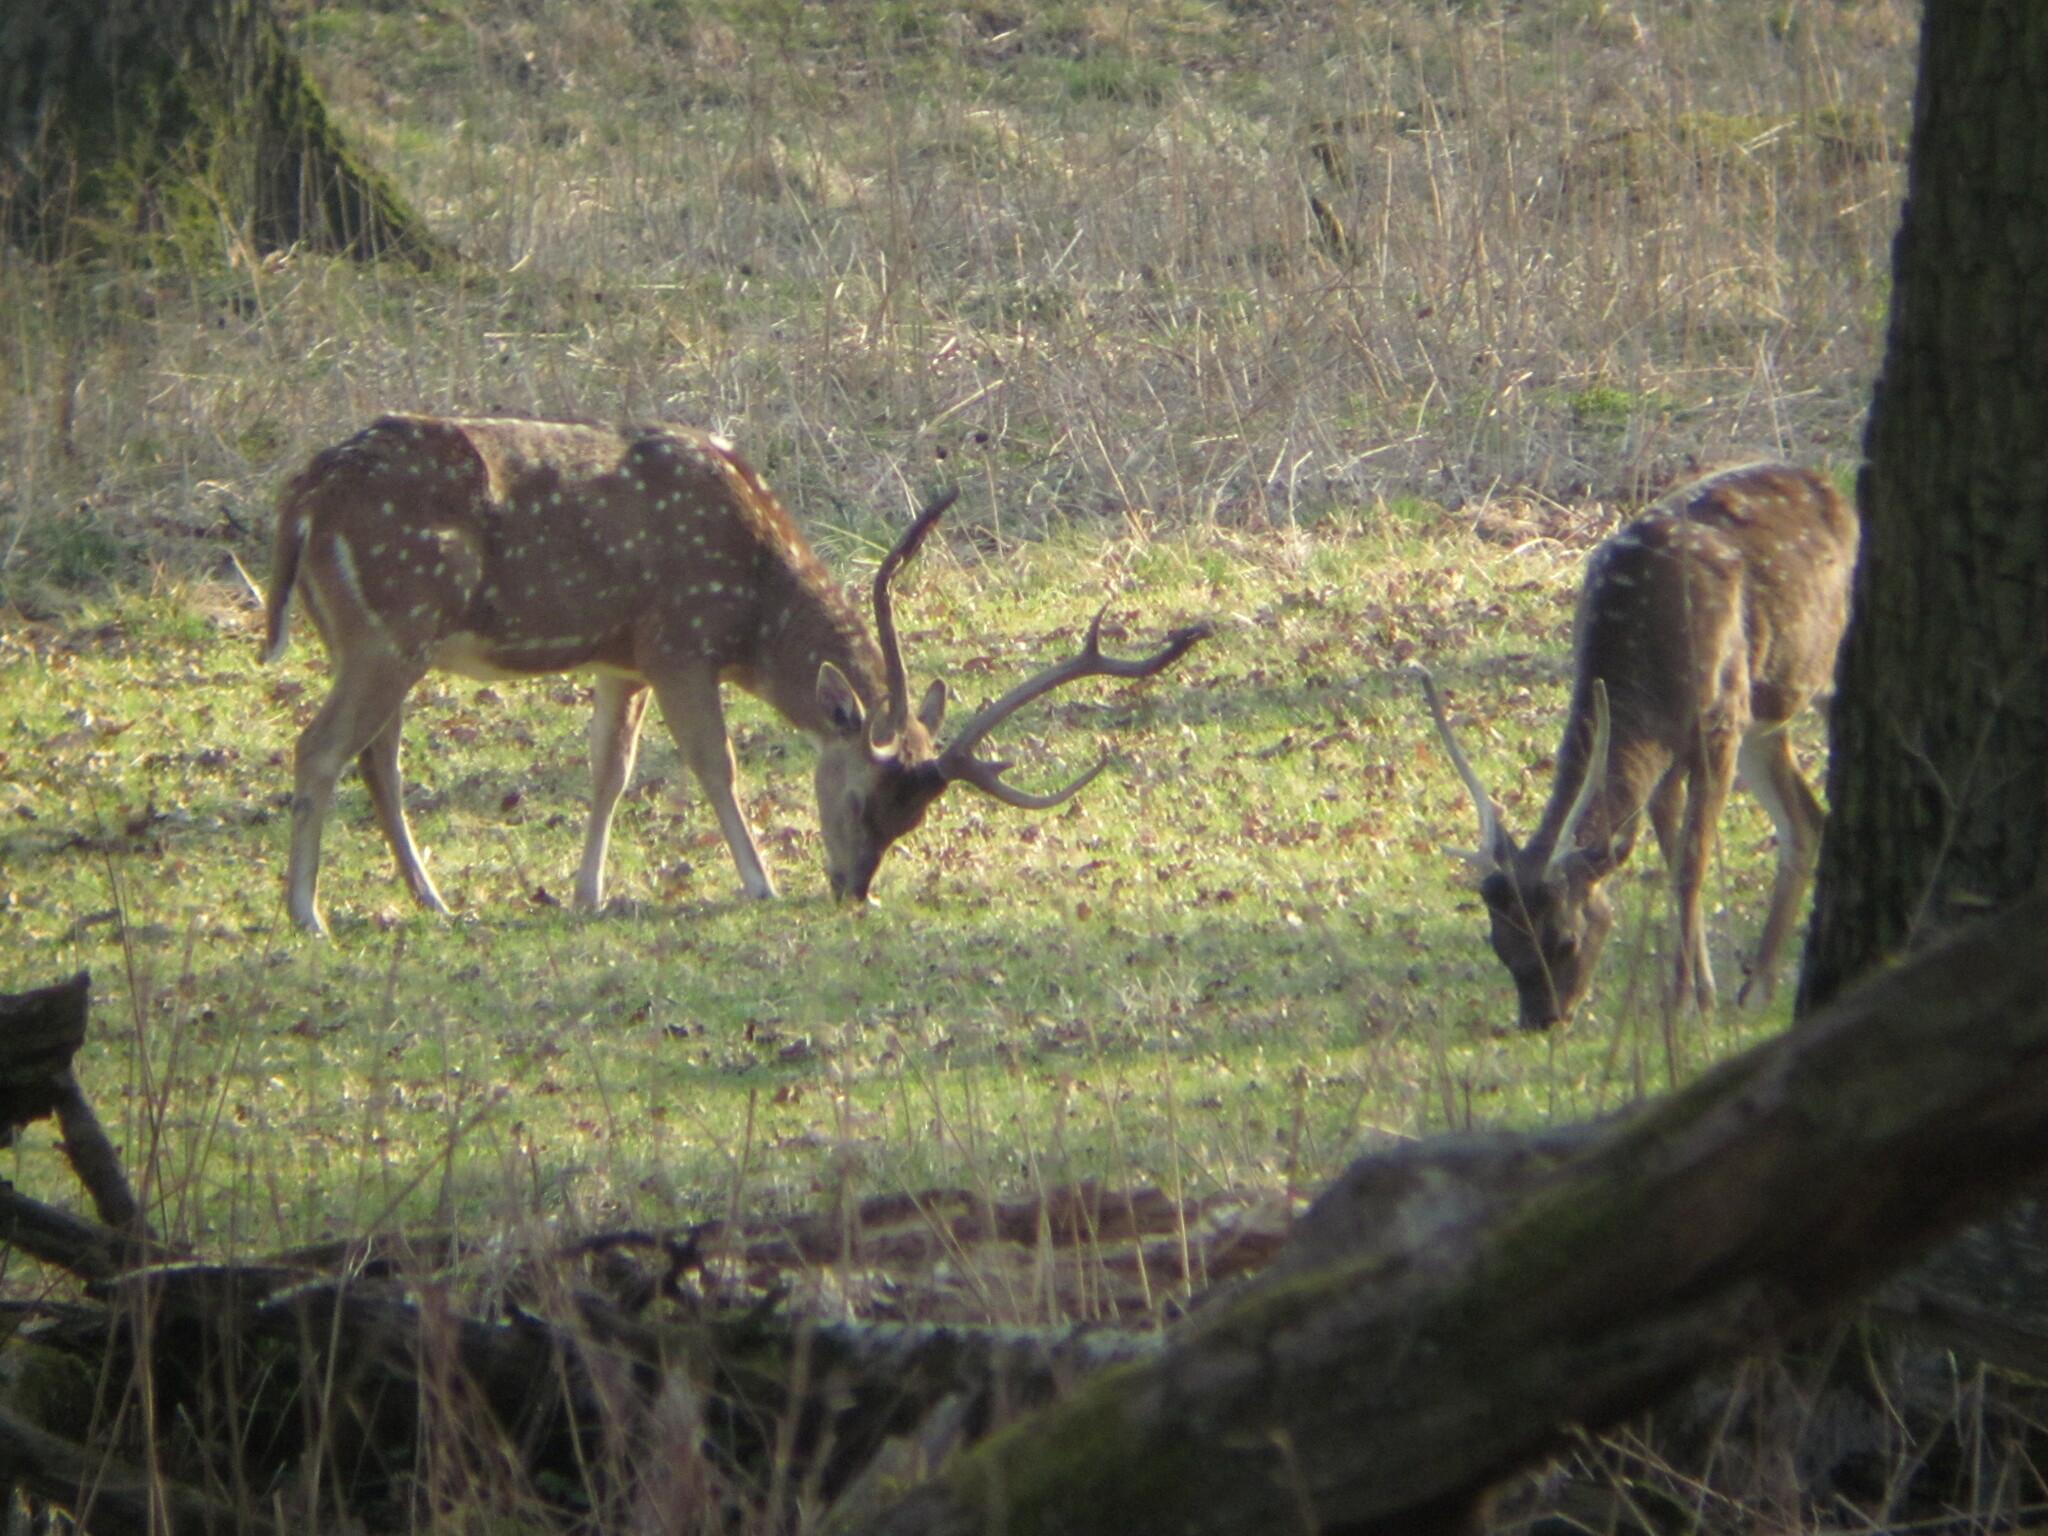Deer: (261, 416, 1213, 933), (1406, 465, 1854, 1028)
